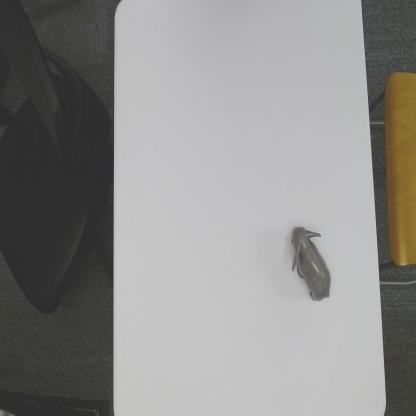Elephant: (289, 223, 333, 306)
